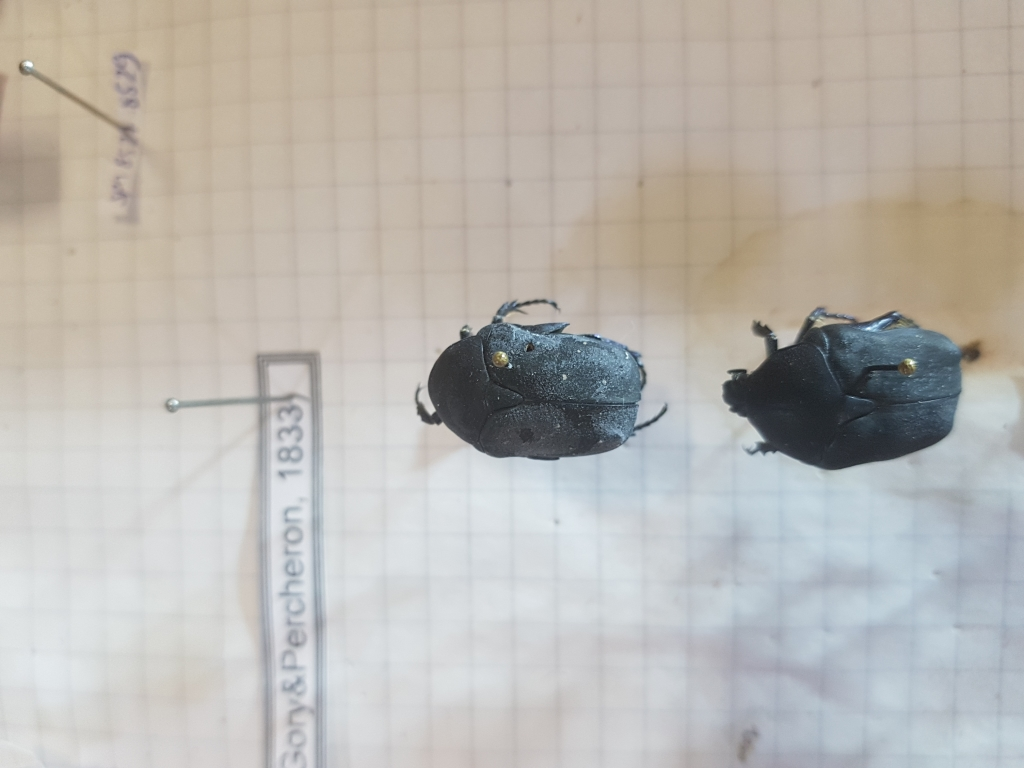Protaetia_afflicta: (406, 288, 674, 475), (714, 295, 980, 478)
